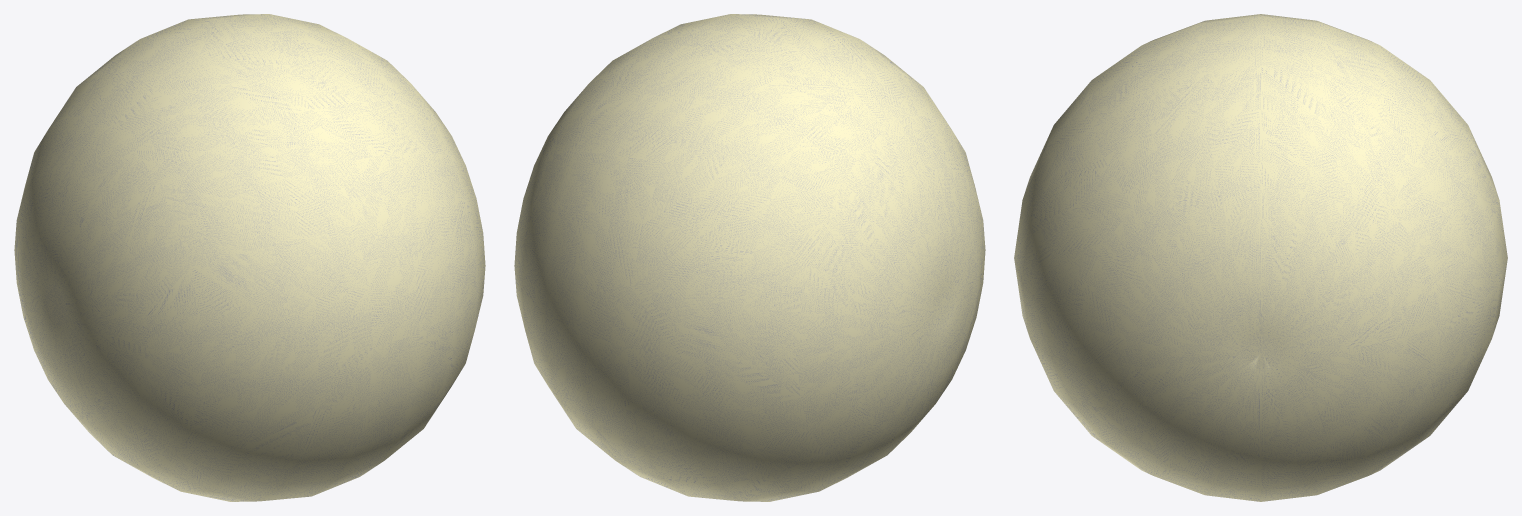
The model's file is original-9.obj.
The picture shows the model from 3 angles, left to right: view 1: azimuth 30°, elevation 25°; view 2: azimuth 150°, elevation 25°; view 3: azimuth 270°, elevation 25°; orthographic projection.
Parts seen in each view (by area): view 1: mesh6/mesh6-geometry#mesh6-geometry; view 2: mesh6/mesh6-geometry#mesh6-geometry; view 3: mesh6/mesh6-geometry#mesh6-geometry.
Boxes of the visible parts, x1,y1,x2,y2 form: mesh6/mesh6-geometry#mesh6-geometry: [14, 14, 485, 501]; mesh6/mesh6-geometry#mesh6-geometry: [514, 14, 985, 501]; mesh6/mesh6-geometry#mesh6-geometry: [1014, 14, 1507, 501].
Size of the model in its own units: 0.1295 by 0.1421 by 0.1421.
